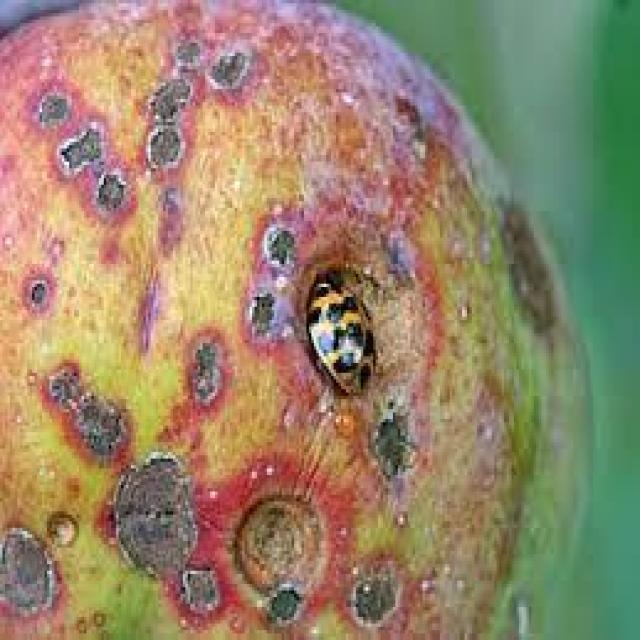maca: (0, 0, 593, 637)
